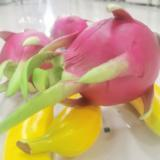pitaya: (65, 7, 160, 117), (1, 29, 56, 94), (51, 16, 93, 47)
